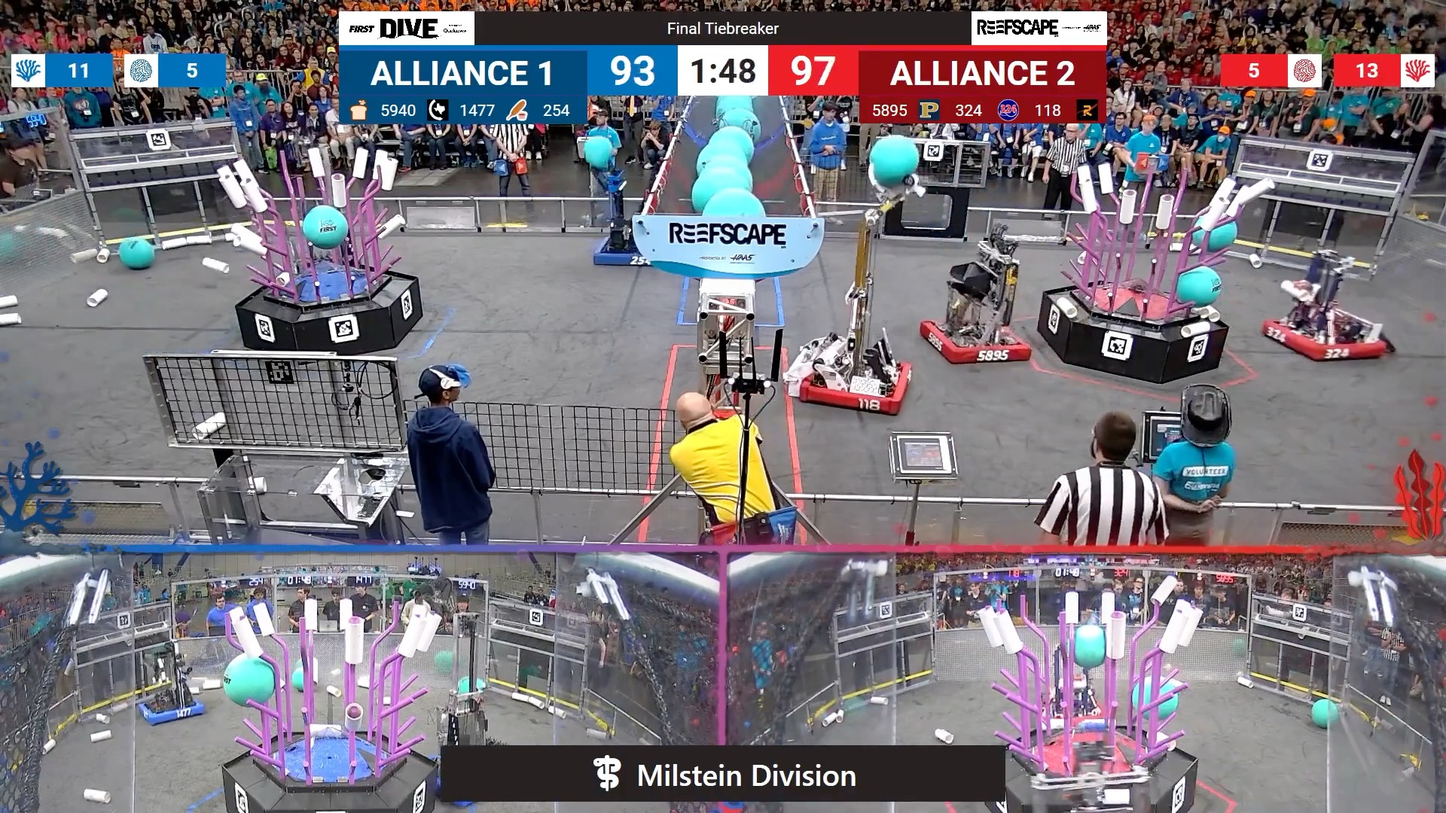bumpers: (788, 358, 919, 421), (1255, 315, 1395, 372), (912, 315, 1038, 373), (131, 691, 214, 729), (591, 231, 667, 271)
